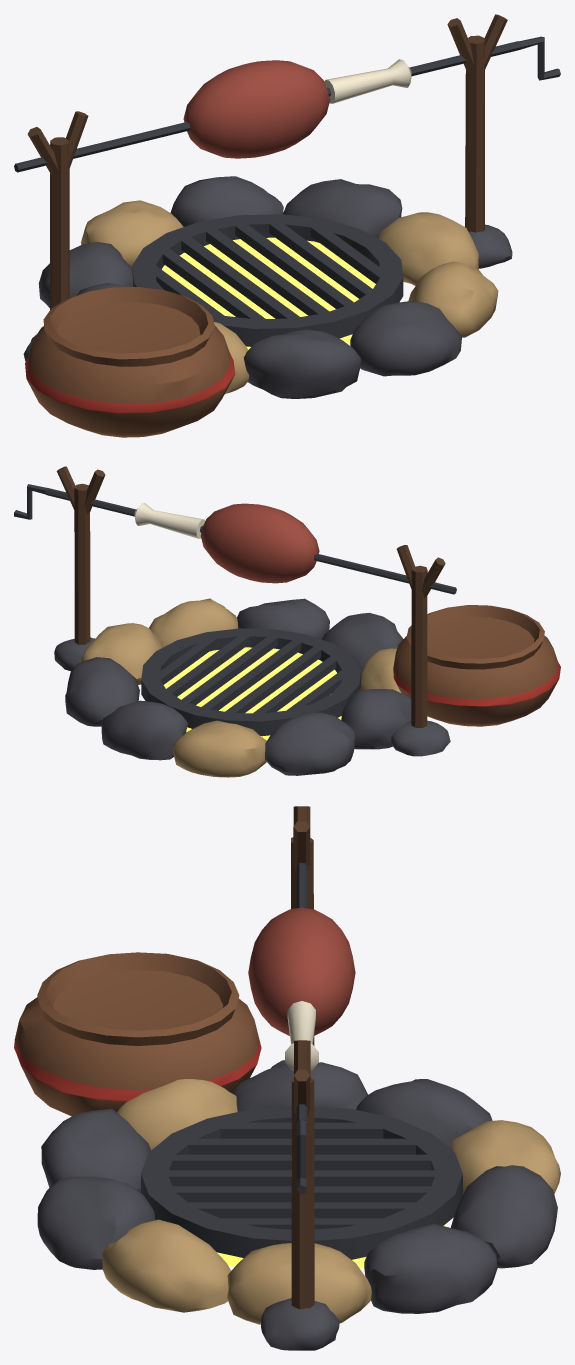
The model's file is deco_cooking_hearth_spit.fbx.
3 renders of one model, top to bottom at view 1: azimuth 30°, elevation 25°; view 2: azimuth 150°, elevation 25°; view 3: azimuth 270°, elevation 25°, orthographic. The views are drawn at different scales.
Parts seen in each view (by area): view 1: CookingHearth_Spit_Stones, CookingHearth_Spit_SidePot, CookingHearth_Spit_Grille, CookingHearth_Spit_Roast, CookingHearth_Spit_Posts, CookingHearth_Spit_Embers, CookingHearth_Spit_Spit; view 2: CookingHearth_Spit_Stones, CookingHearth_Spit_Grille, CookingHearth_Spit_SidePot, CookingHearth_Spit_Posts, CookingHearth_Spit_Roast, CookingHearth_Spit_Embers, CookingHearth_Spit_Spit; view 3: CookingHearth_Spit_Stones, CookingHearth_Spit_Grille, CookingHearth_Spit_SidePot, CookingHearth_Spit_Roast, CookingHearth_Spit_Posts, CookingHearth_Spit_Spit.
Part boxes in pixels (x1=…): CookingHearth_Spit_Stones: x1=38, y1=176, x2=498, y2=398; CookingHearth_Spit_SidePot: x1=25, y1=287, x2=235, y2=437; CookingHearth_Spit_Grille: x1=132, y1=214, x2=403, y2=346; CookingHearth_Spit_Roast: x1=183, y1=59, x2=411, y2=158; CookingHearth_Spit_Posts: x1=23, y1=14, x2=512, y2=361; CookingHearth_Spit_Embers: x1=162, y1=237, x2=375, y2=349; CookingHearth_Spit_Spit: x1=14, y1=36, x2=560, y2=172; CookingHearth_Spit_Stones: x1=65, y1=598, x2=411, y2=777; CookingHearth_Spit_Grille: x1=141, y1=628, x2=361, y2=736; CookingHearth_Spit_SidePot: x1=393, y1=605, x2=560, y2=726; CookingHearth_Spit_Posts: x1=54, y1=466, x2=450, y2=756; CookingHearth_Spit_Roast: x1=134, y1=503, x2=319, y2=583; CookingHearth_Spit_Embers: x1=163, y1=647, x2=341, y2=740; CookingHearth_Spit_Spit: x1=14, y1=484, x2=456, y2=594; CookingHearth_Spit_Stones: x1=37, y1=1062, x2=560, y2=1324; CookingHearth_Spit_Grille: x1=141, y1=1106, x2=462, y2=1259; CookingHearth_Spit_SidePot: x1=14, y1=952, x2=261, y2=1116; CookingHearth_Spit_Roast: x1=248, y1=907, x2=355, y2=1070; CookingHearth_Spit_Posts: x1=261, y1=806, x2=339, y2=1350; CookingHearth_Spit_Spit: x1=296, y1=863, x2=307, y2=1194.
Bounding box in the file's own units: 270 × 107 × 183.
